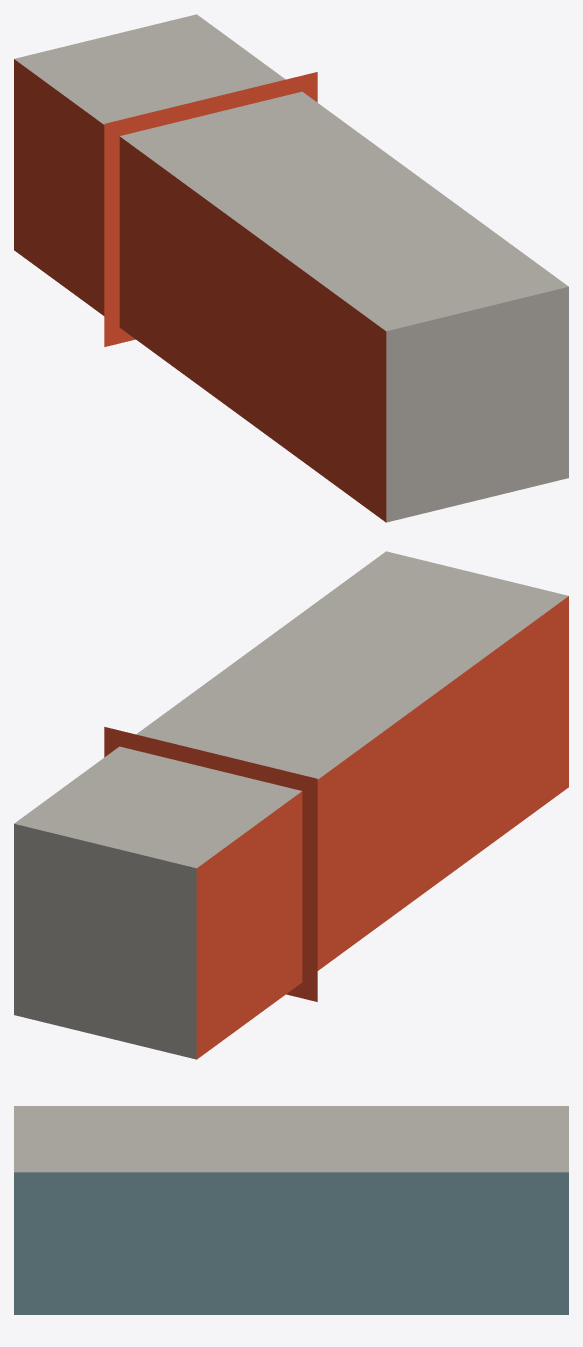
Rendered from doublebox_fixed3.obj.
The picture shows the model from 3 angles, top to bottom: view 1: azimuth 30°, elevation 25°; view 2: azimuth 150°, elevation 25°; view 3: azimuth 270°, elevation 25°; orthographic projection. The views are drawn at different scales.
Visible parts, largest first — view 1: rightWall.001; view 2: rightWall.001; view 3: rightWall.001.
Part boxes in pixels (x1=…): rightWall.001: x1=14, y1=14, x2=568, y2=522; rightWall.001: x1=14, y1=551, x2=568, y2=1059; rightWall.001: x1=14, y1=1106, x2=568, y2=1314.
Bounding box in the file's own units: 2.33 × 2.33 × 7.05.
